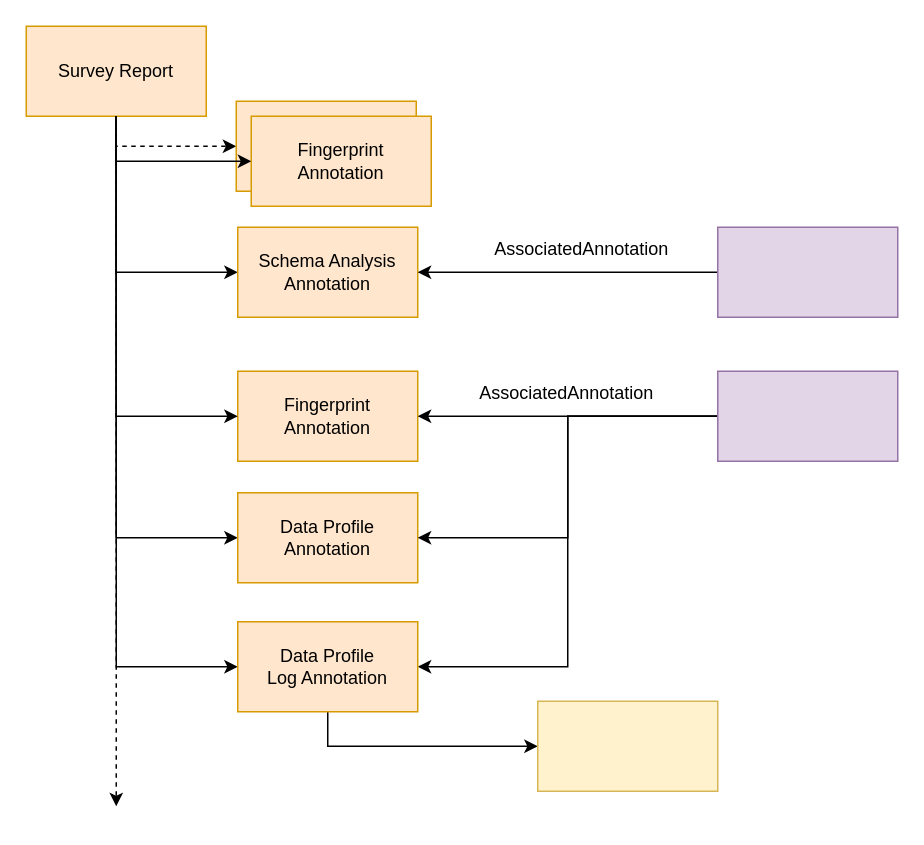
Image size: 924x845. Some labels were removed from this diagram. The centre of each missing label's shape, as x and y in pixels:
Log File Asset: (x=627, y=745)
Schema Attribute: (x=807, y=415)
Schema Type: (x=807, y=271)
